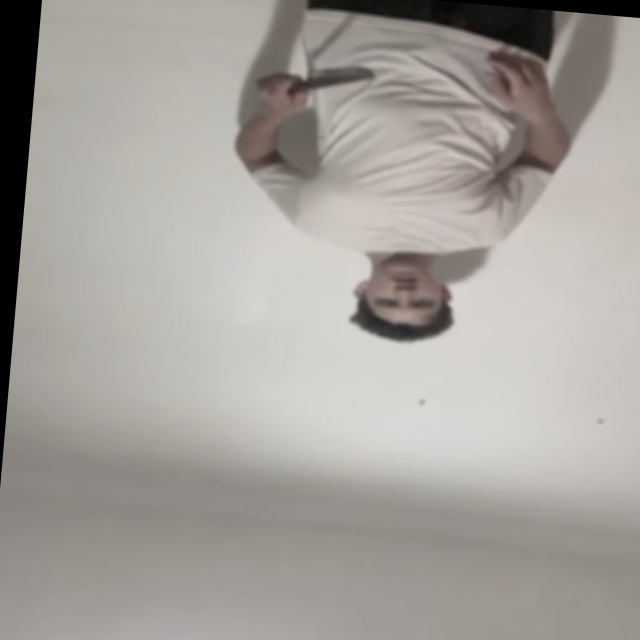Sharp-Object: (304, 59, 380, 99)
